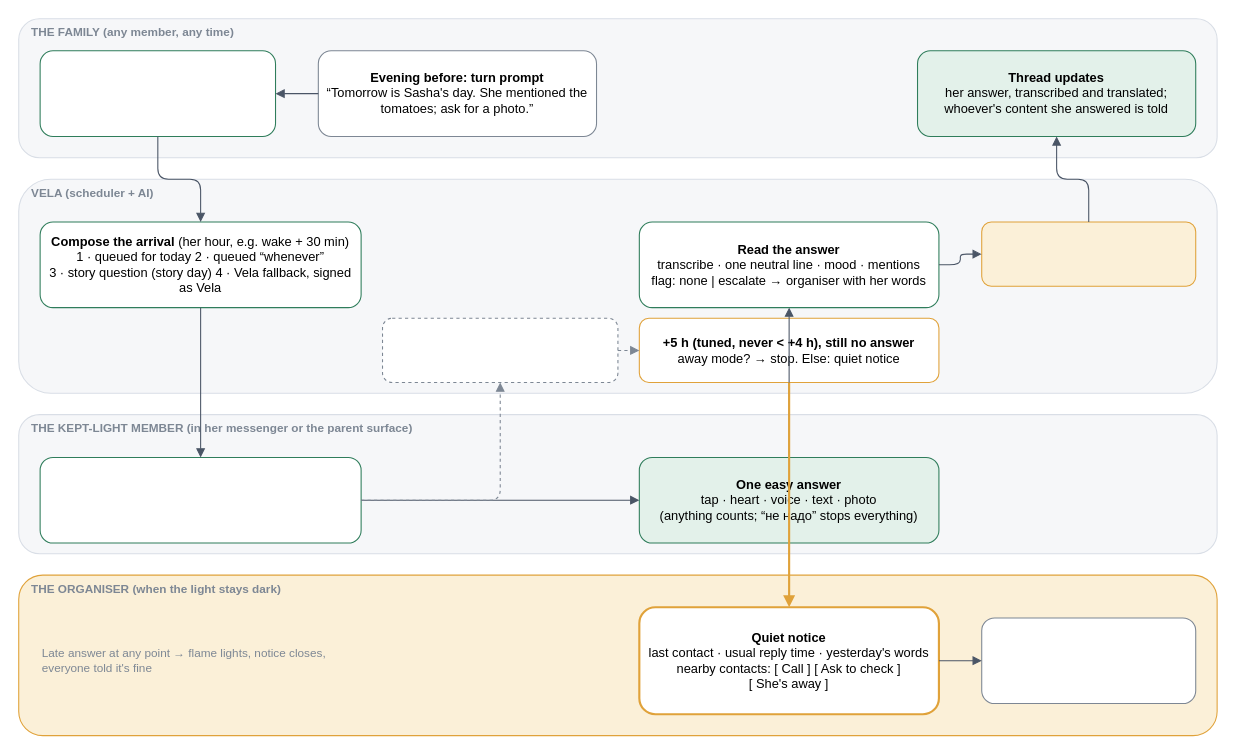
Some shapes in this 1236 by 754 pixel diagram are drawn without their labels. The shapes that lost their labels are listed below. From the top down, each one's centre as x and y in pixels, then its label:
At (x=157, y=93): "Queue something voice note · photo · drawing · question for today or “whenever”".
At (x=1088, y=253): "Flame lights quiet ladder cancelled".
At (x=499, y=350): "+2.5 h, no answer the same arrival, repeated gently".
At (x=200, y=499): "One message “Доброе утро, Галина Петровна…” + Masha's photo [ ☀️ Всё хорошо ] 🎤".
At (x=1088, y=660): "The family acts a call, a neighbour's knock Vela never knocks".
